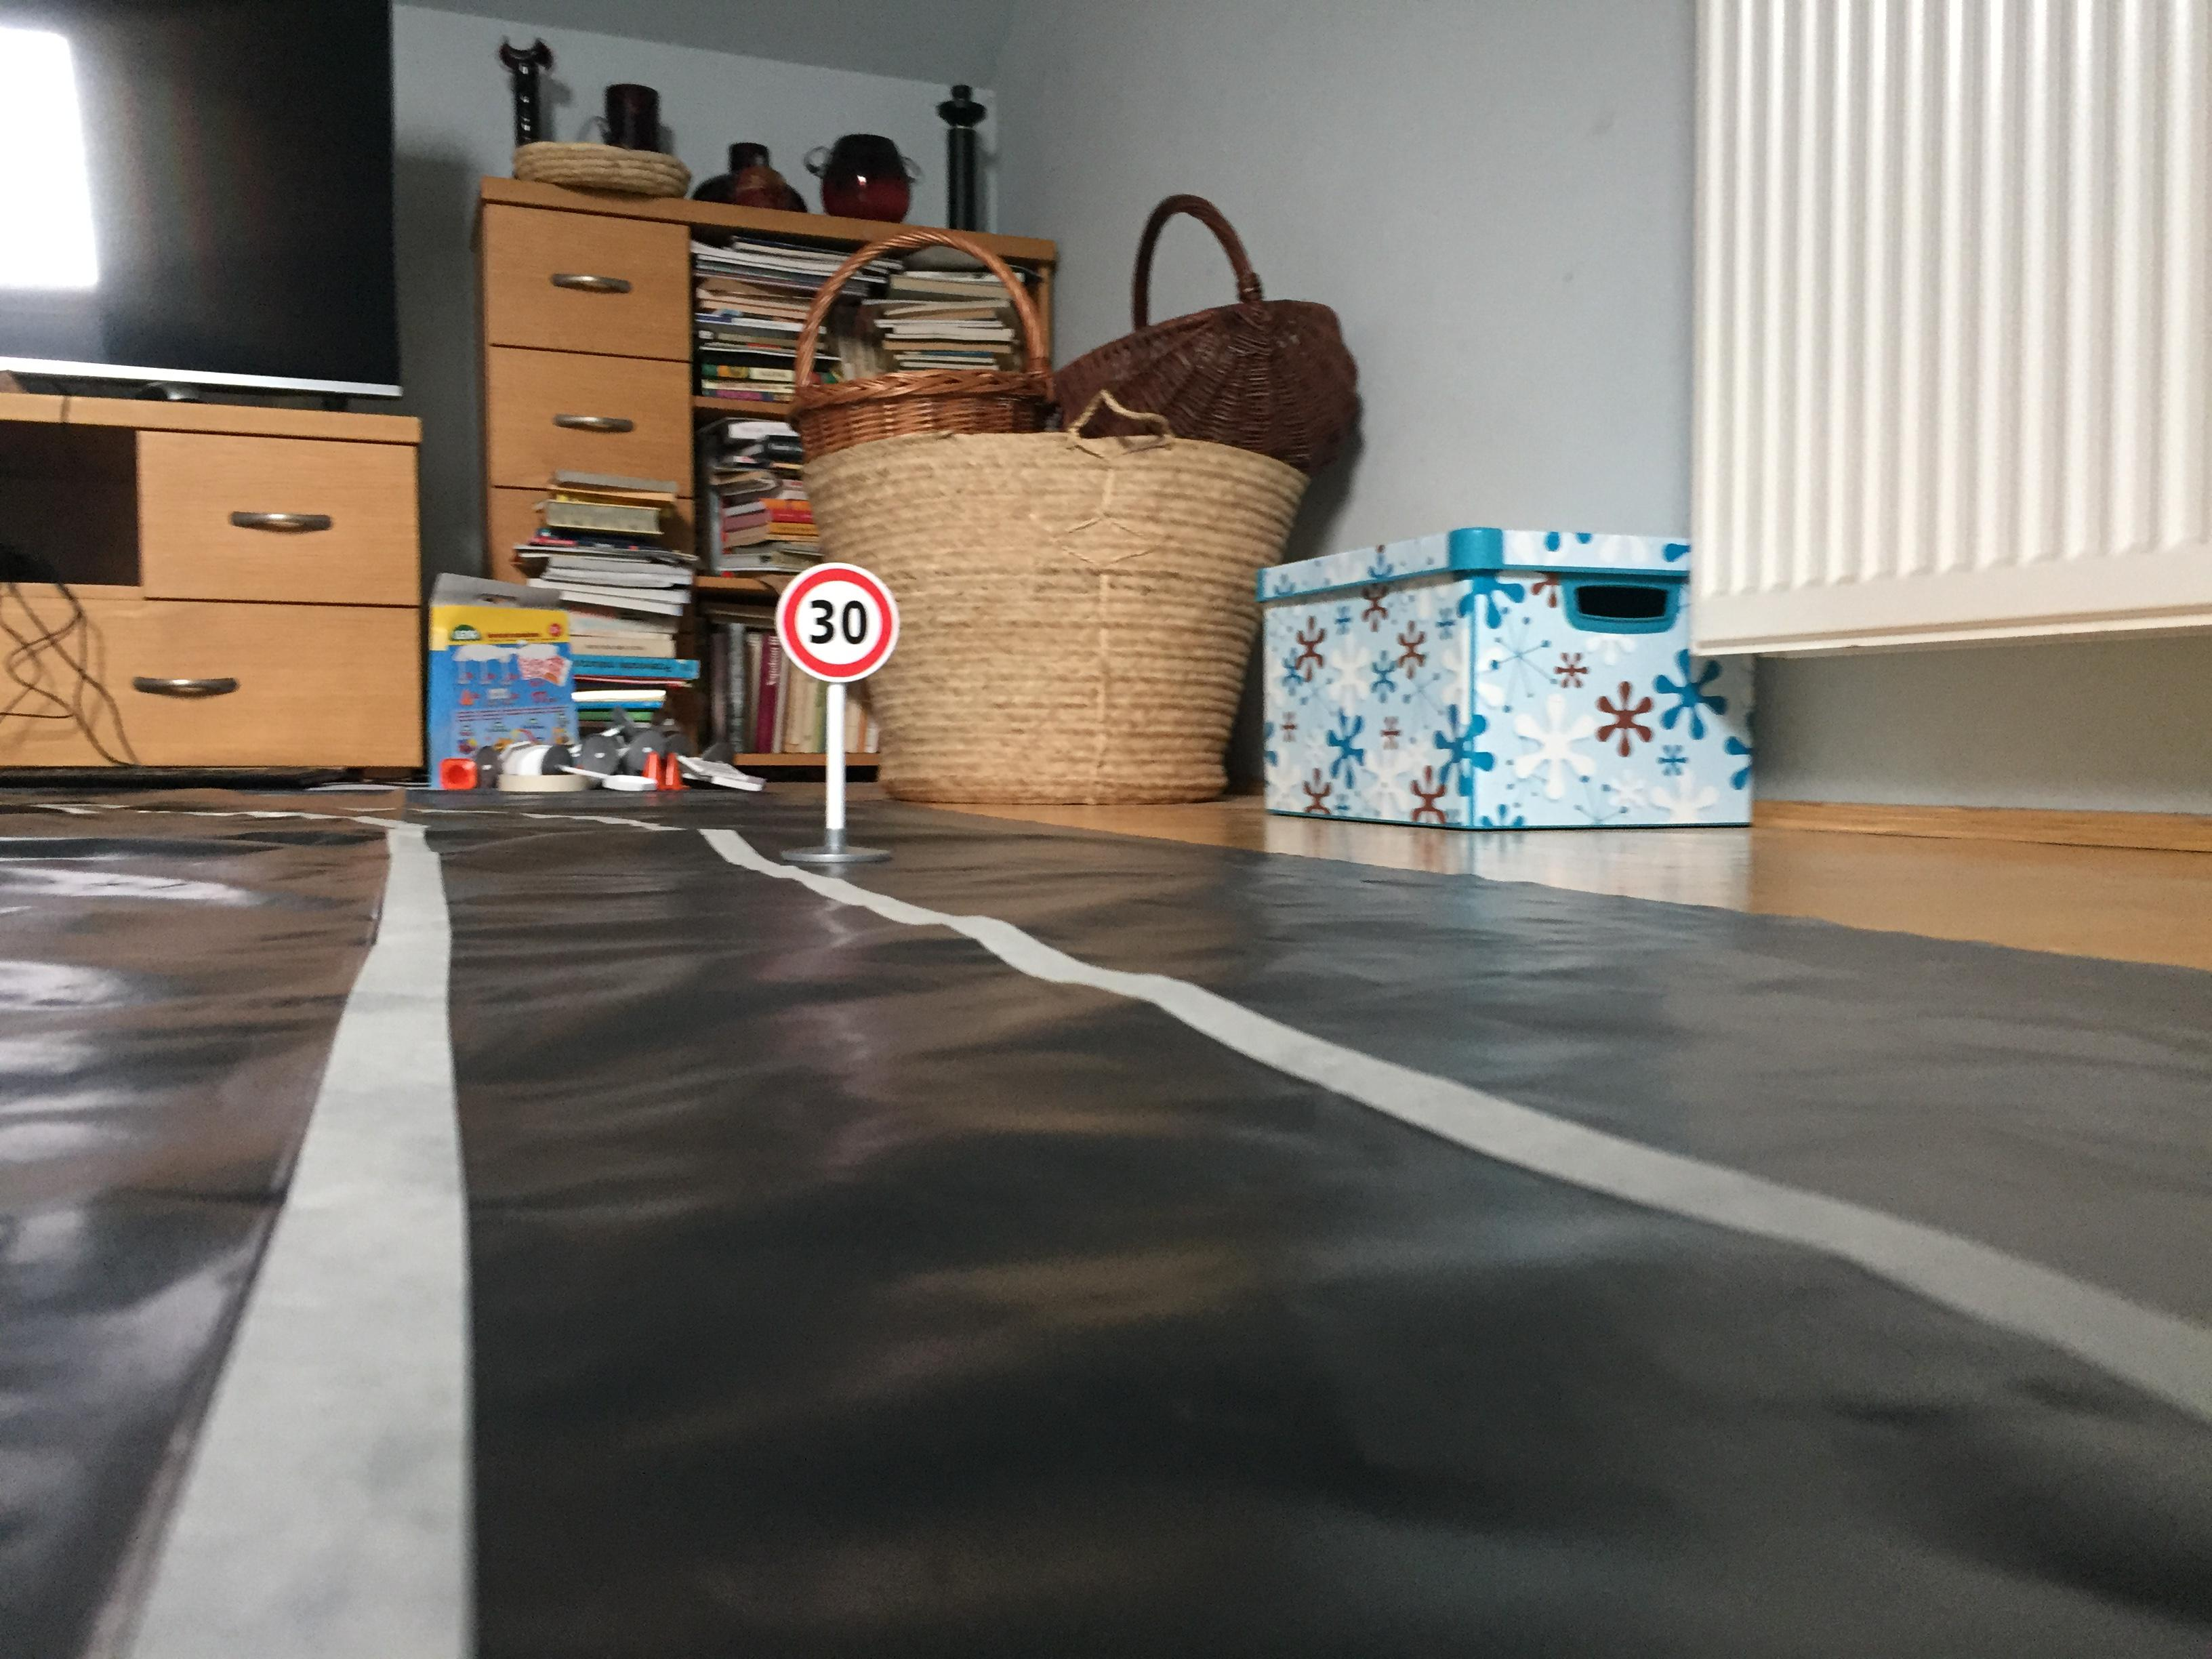speed: (773, 556, 907, 687)
